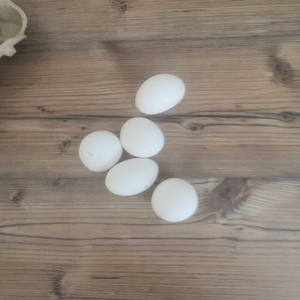white egg: (104, 157, 160, 197), (151, 177, 199, 222), (135, 73, 186, 115), (120, 115, 165, 159), (78, 130, 123, 173)
